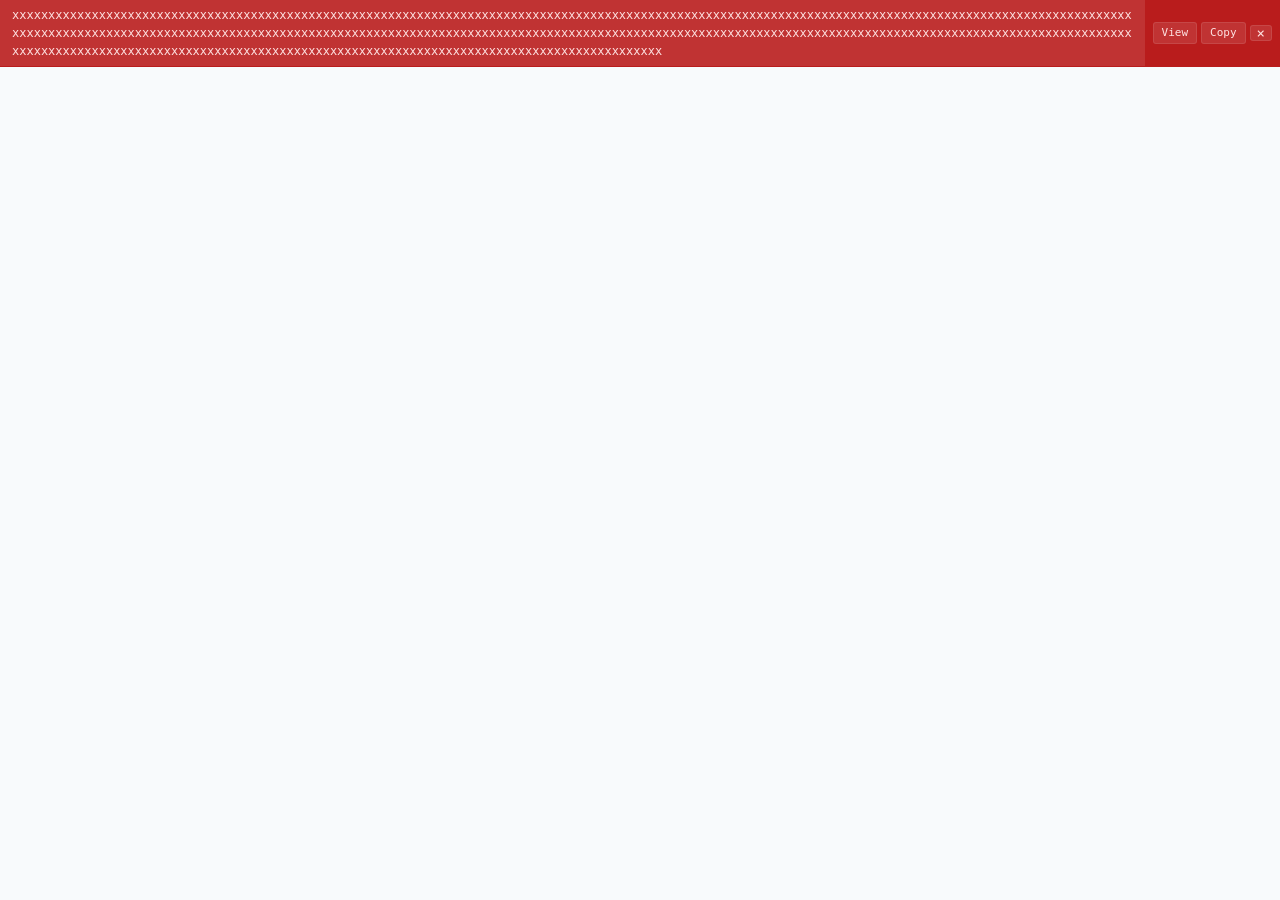
Scenario: ErrorBanner (Sprint 13+) › renders the "view" button for long errors and opens the modal on click
The width and height of the screenshot is (1280, 900).
What coordinates should you click on to do the following:
click the button with test id "error-banner-view"
I would click on:
 (1175, 33)
Its box is [1153,22,1197,44].
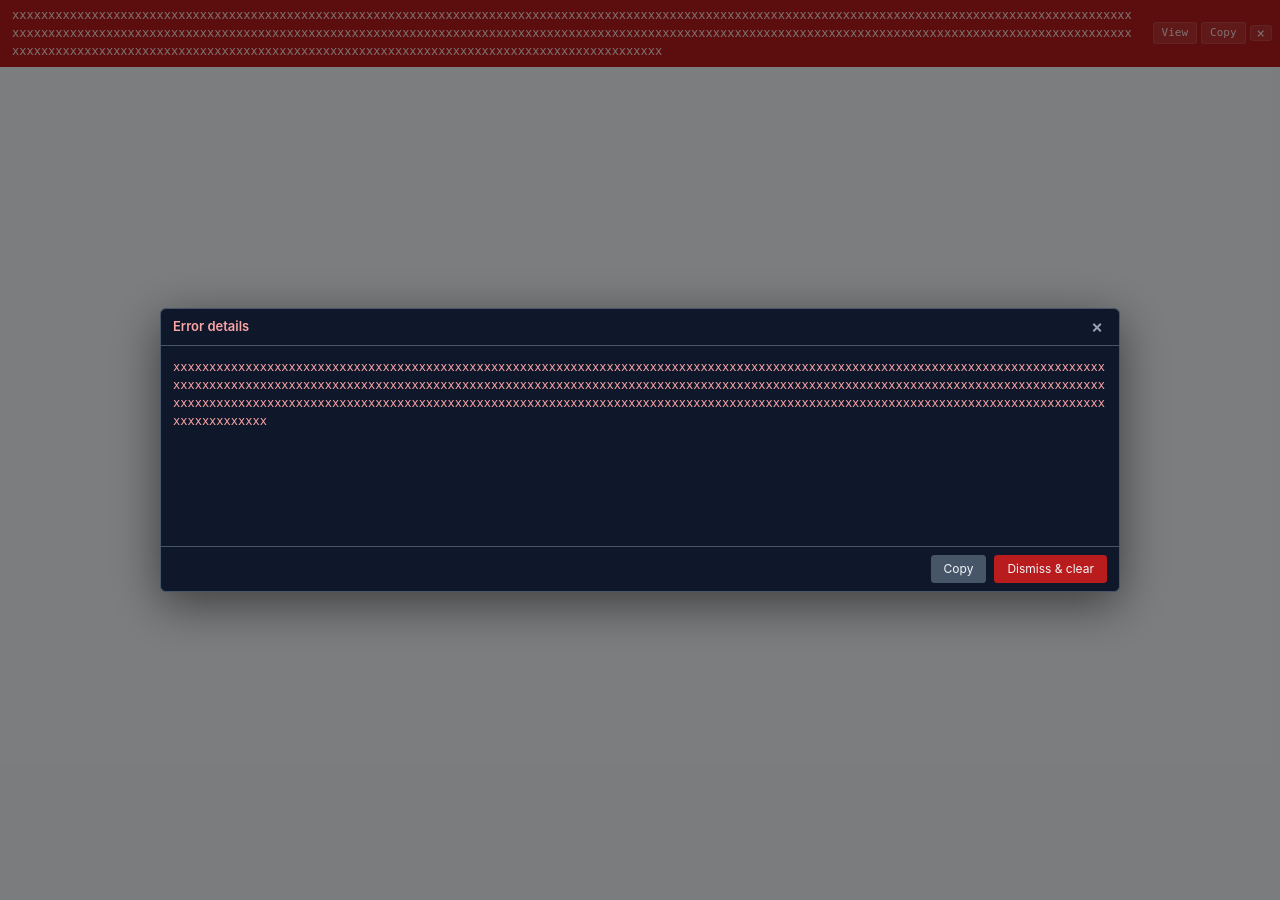
Expected: the dialog with test id "error-viewer-overlay" is shown
